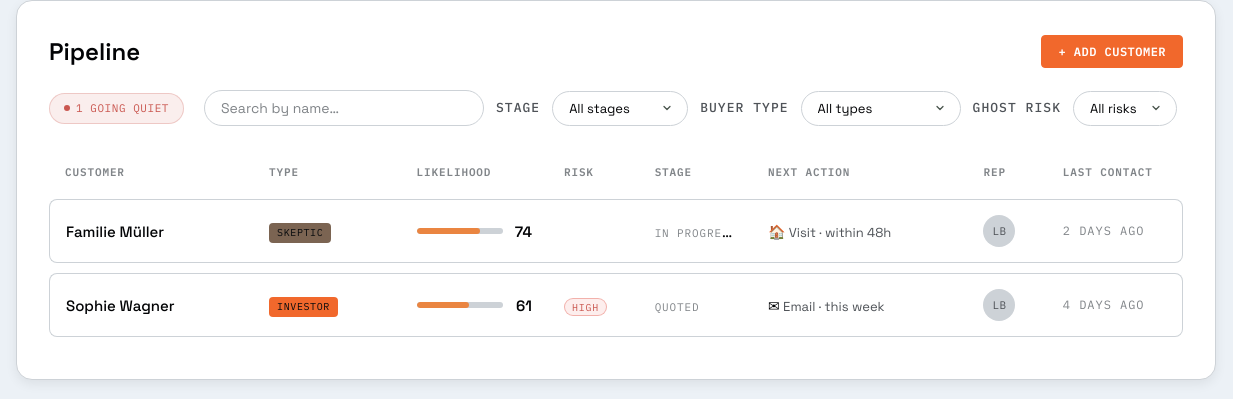
Test case: Dashboard › stage filter shows only rows matching the selected stage
Expected: the text "Familie Müller" is shown, [66,222,164,241]
Select "Quoted" in the dropdown labelled "Stage": (620,108) [552,91,688,126]
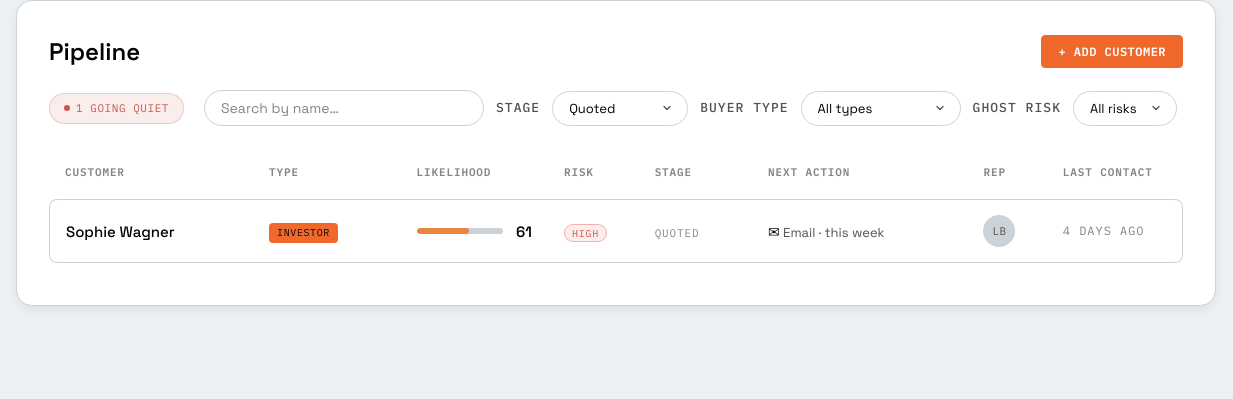
Expected: the text "Sophie Wagner" is shown, [66,222,175,241]
Now the text "Familie Müller" is gone
